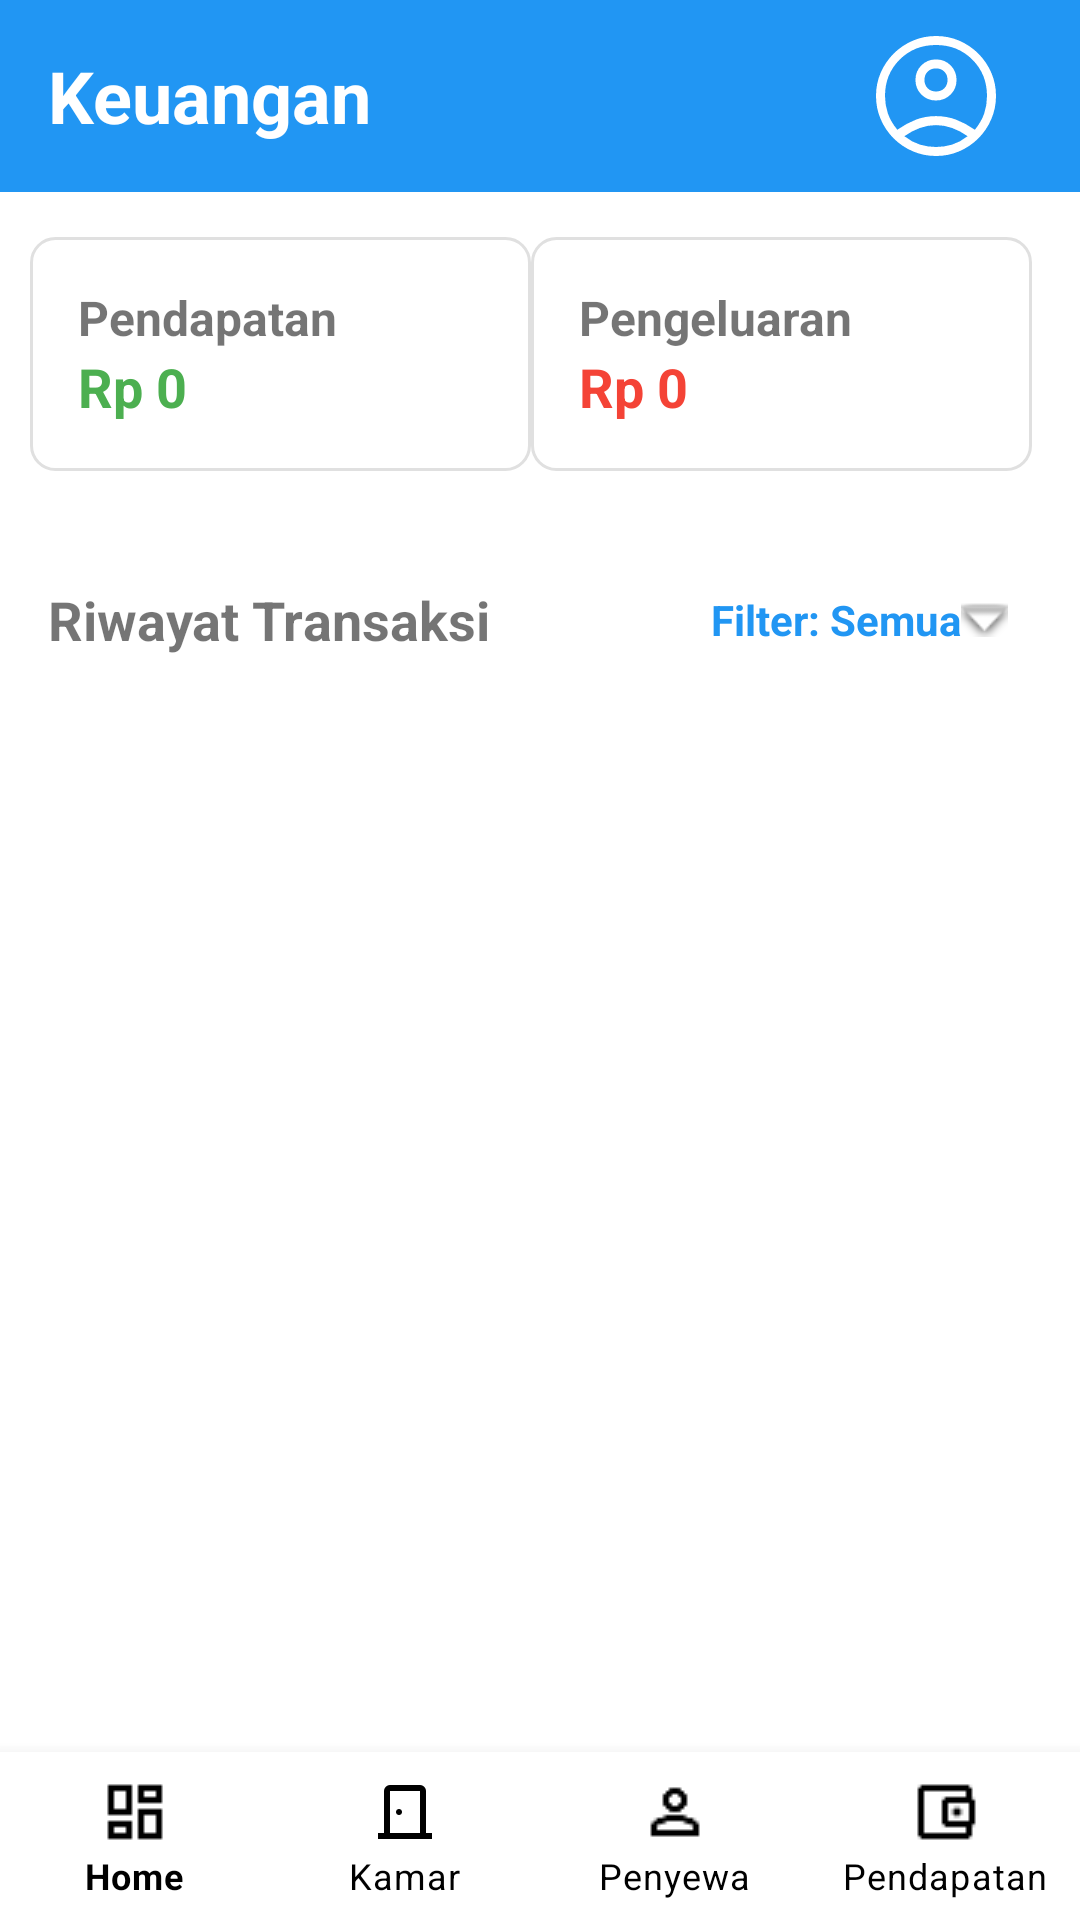

Locate icon controls on the screen. Image size 1080w x 1920h, boxes as [x1,y1,x2,y2].
Profile: [876,36,996,156]
